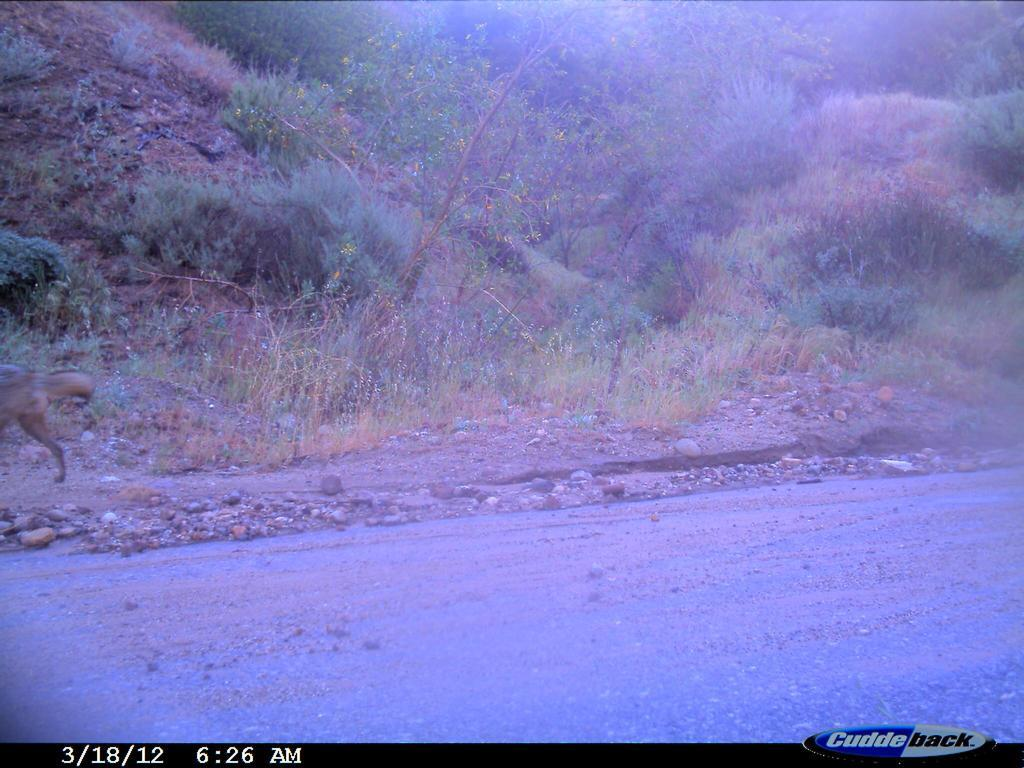coyote: (2, 359, 100, 491)
